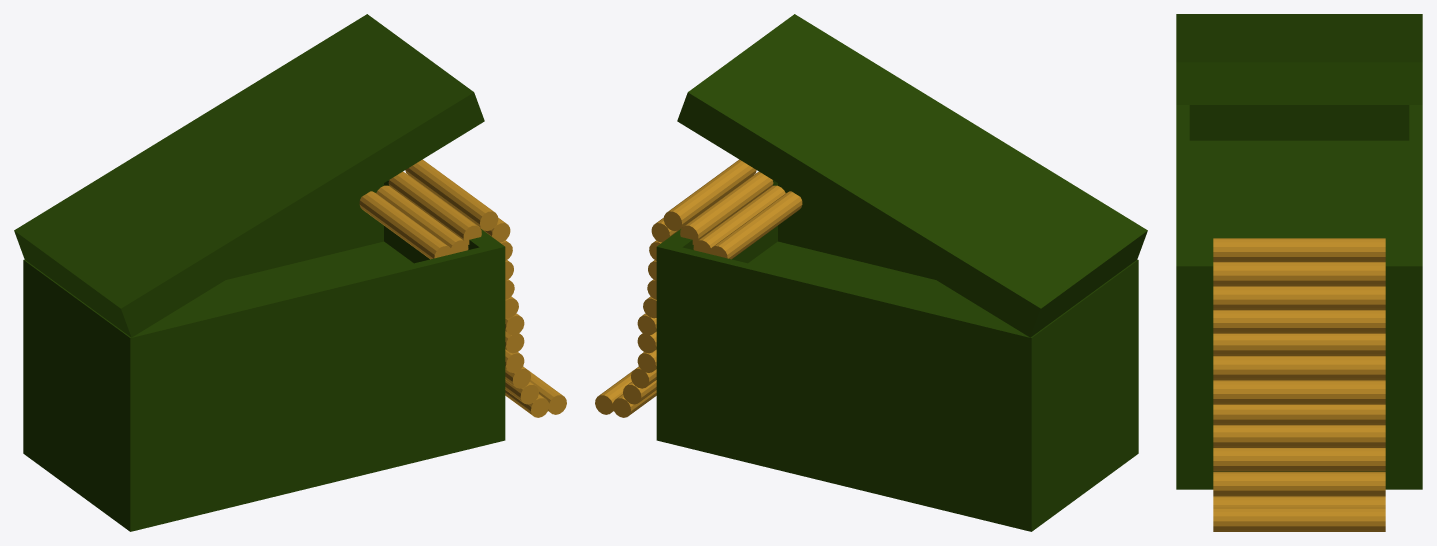
The model's file is AmmoBox.fbx.
The picture shows the model from 3 angles, left to right: view 1: azimuth 30°, elevation 25°; view 2: azimuth 150°, elevation 25°; view 3: azimuth 270°, elevation 25°; orthographic projection. The views are drawn at different scales.
Visible parts, largest first — view 1: Cube, Cube.001, Cylinder.012, Cylinder.015, Cylinder.013, Cylinder.014, Cylinder.006; view 2: Cube, Cube.001, Cylinder.012, Cylinder.015, Cylinder.013, Cylinder.014, Cylinder.006; view 3: Cube, Cube.001, Cylinder, Cylinder.004, Cylinder.006, Cylinder.007, Cylinder.010, Cylinder.011, Cylinder.003, Cylinder.009, Cylinder.012, Cylinder.002 (+3 smaller).
Part boxes in pixels (left/top/right/bottom): Cube: left=23, top=180, right=505, bottom=531; Cube.001: left=14, top=14, right=484, bottom=337; Cylinder.012: left=405, top=159, right=498, bottom=230; Cylinder.015: left=359, top=191, right=452, bottom=259; Cylinder.013: left=388, top=171, right=481, bottom=244; Cylinder.014: left=376, top=185, right=468, bottom=253; Cylinder.006: left=529, top=371, right=566, bottom=414; Cube: left=656, top=180, right=1138, bottom=531; Cube.001: left=677, top=14, right=1147, bottom=337; Cylinder.012: left=663, top=159, right=756, bottom=230; Cylinder.015: left=709, top=191, right=802, bottom=259; Cylinder.013: left=680, top=171, right=773, bottom=244; Cylinder.014: left=693, top=185, right=785, bottom=253; Cylinder.006: left=595, top=371, right=632, bottom=414; Cube: left=1176, top=105, right=1422, bottom=489; Cube.001: left=1176, top=14, right=1422, bottom=104; Cylinder: left=1213, top=380, right=1385, bottom=404; Cylinder.004: left=1213, top=472, right=1385, bottom=496; Cylinder.006: left=1213, top=507, right=1385, bottom=531; Cylinder.007: left=1213, top=356, right=1385, bottom=380; Cylinder.010: left=1213, top=286, right=1385, bottom=310; Cylinder.011: left=1213, top=262, right=1385, bottom=286; Cylinder.003: left=1213, top=448, right=1385, bottom=471; Cylinder.009: left=1213, top=310, right=1385, bottom=333; Cylinder.012: left=1213, top=238, right=1385, bottom=261; Cylinder.002: left=1213, top=425, right=1385, bottom=447.
Bounding box in the file's own units: 499 × 370 × 200.
